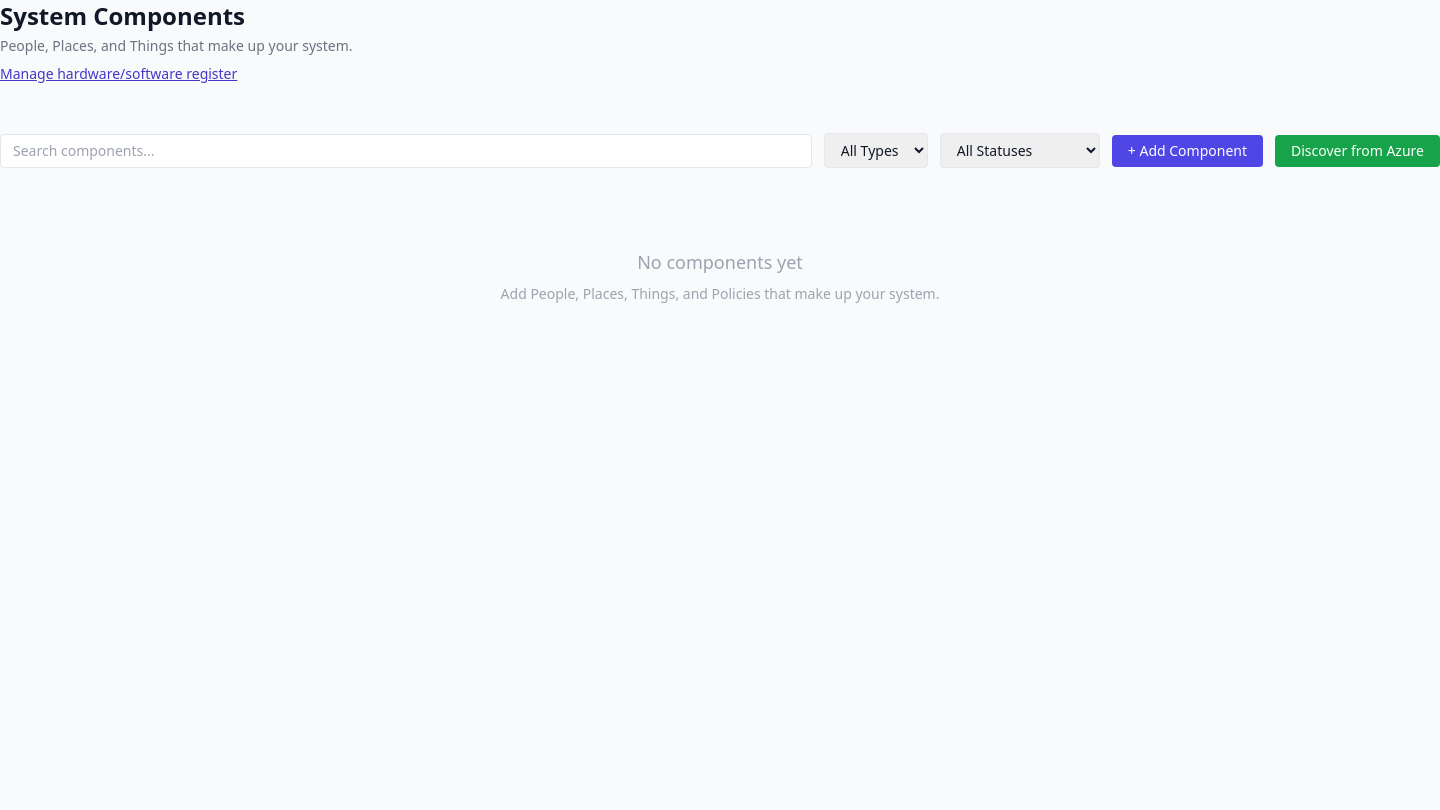
Test case: ComponentInventory — Add Existing empty-state messages › (A) shows Components library link when org has no components at all
The width and height of the screenshot is (1440, 810).
Click the button "+ Add Component".
click(1187, 150)  # box 1112,134 -> 1263,166
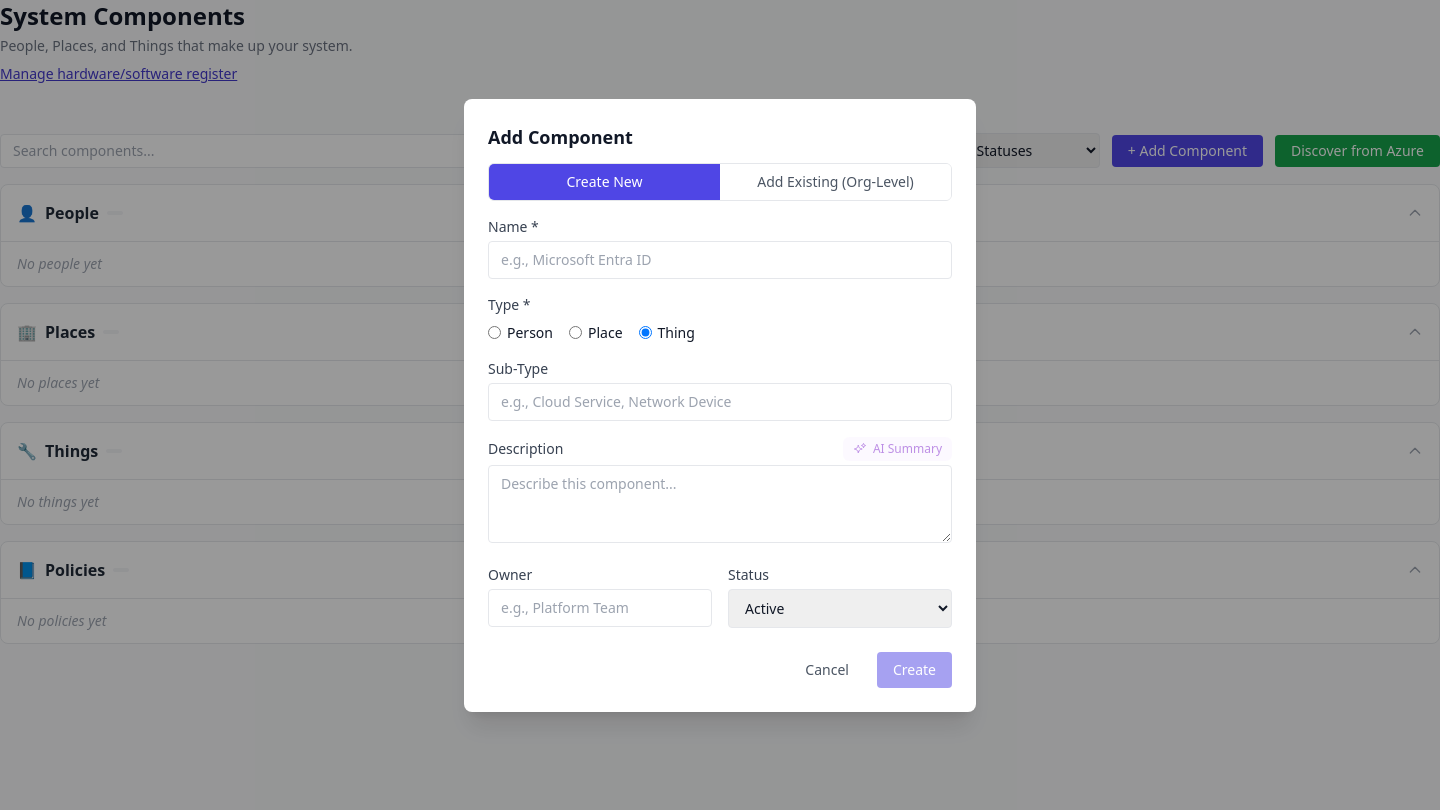
Click the button "Add Existing (Org-Level)".
click(836, 182)  # box 720,164 -> 951,200
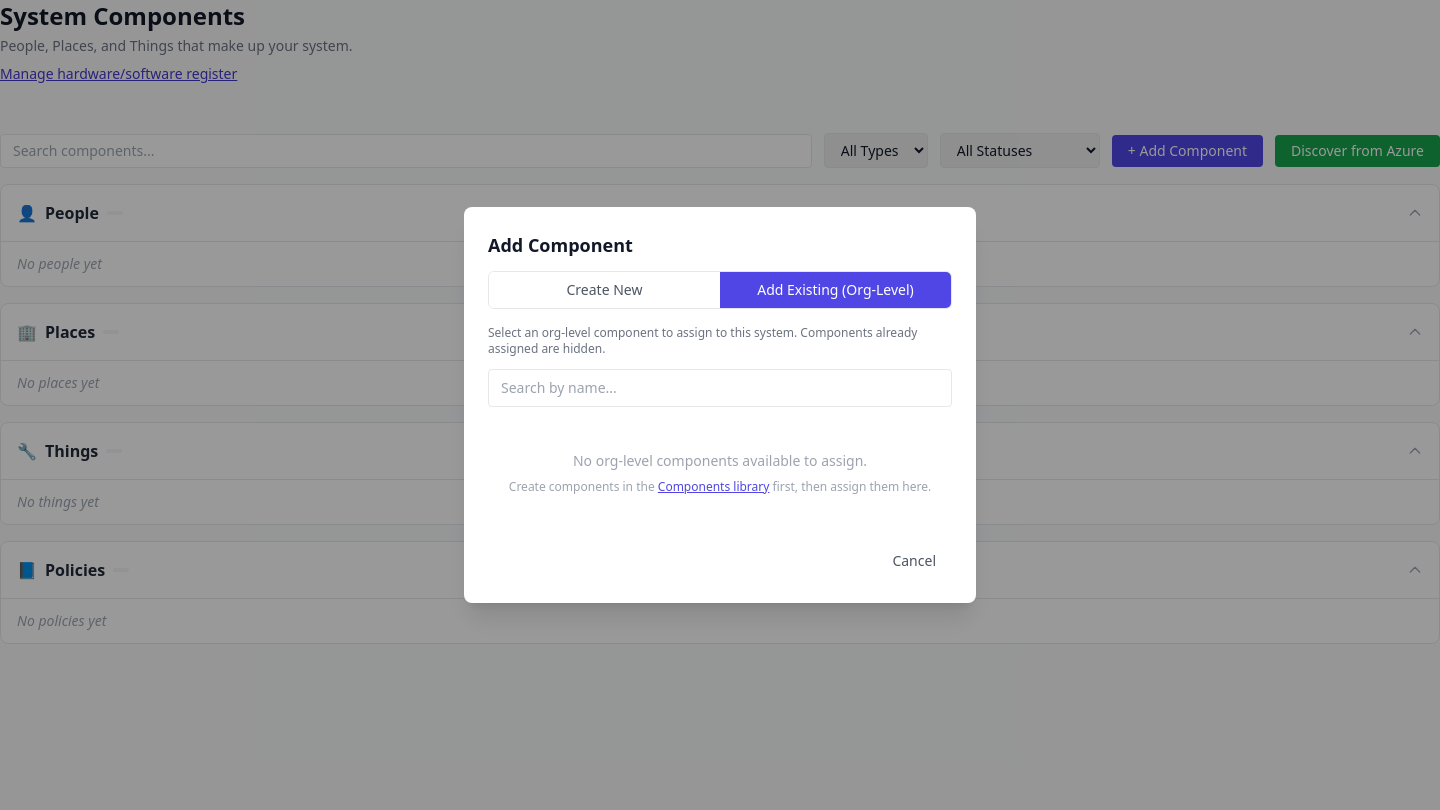
Now the text "No org-level components available to assign." is shown, box 573,451 -> 867,470
